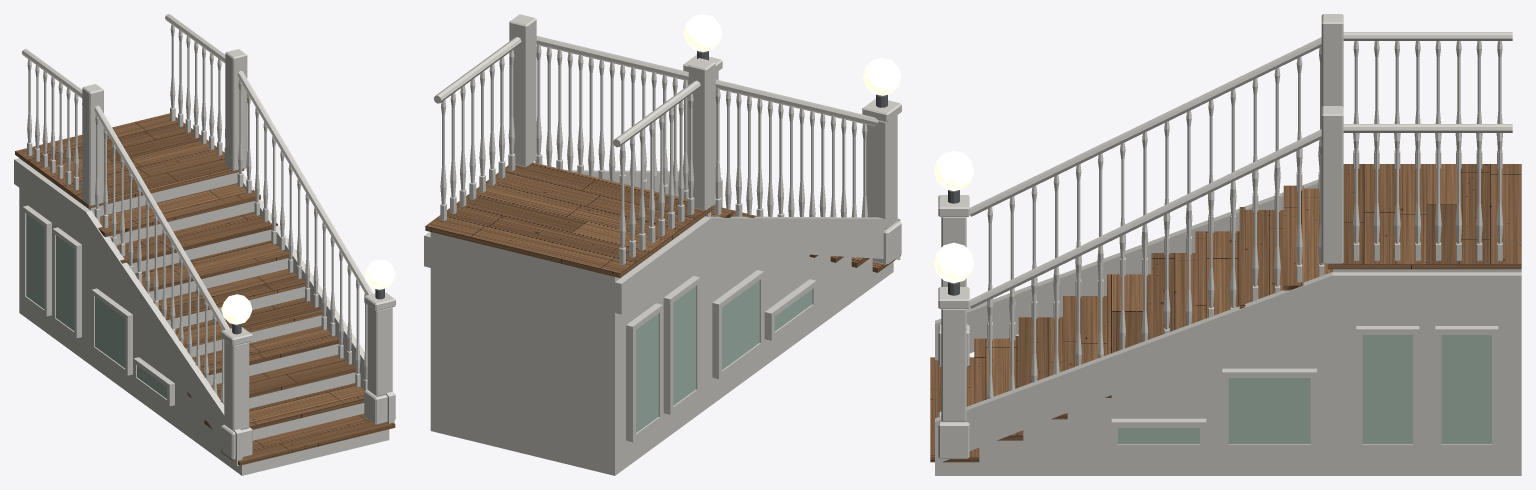
File: stoop_e.glb
3 renders of one model, left to right at view 1: azimuth 30°, elevation 25°; view 2: azimuth 150°, elevation 25°; view 3: azimuth 270°, elevation 25°, orthographic. The views are drawn at different scales.
Parts seen in each view (by area): view 1: stoop_e_trim, stoop_e_deck, stoop_e_acc_e, stoop_e_lamp_glass; view 2: stoop_e_trim, stoop_e_deck, stoop_e_acc_e, stoop_e_lamp_glass; view 3: stoop_e_trim, stoop_e_deck, stoop_e_acc_e, stoop_e_lamp_glass.
Part boxes in pixels (x1=…): stoop_e_trim: x1=14, y1=14, x2=395, y2=475; stoop_e_deck: x1=15, y1=113, x2=395, y2=465; stoop_e_acc_e: x1=26, y1=214, x2=166, y2=398; stoop_e_lamp_glass: x1=221, y1=259, x2=395, y2=324; stoop_e_trim: x1=424, y1=14, x2=901, y2=475; stoop_e_deck: x1=425, y1=162, x2=900, y2=277; stoop_e_acc_e: x1=636, y1=280, x2=812, y2=432; stoop_e_lamp_glass: x1=683, y1=14, x2=901, y2=95; stoop_e_trim: x1=935, y1=14, x2=1521, y2=475; stoop_e_deck: x1=930, y1=164, x2=1521, y2=462; stoop_e_acc_e: x1=1118, y1=335, x2=1491, y2=444; stoop_e_lamp_glass: x1=933, y1=150, x2=974, y2=283.
Bounding box in the file's own units: 1.64 × 2.55 × 3.75.
Materials: 5 (1 with a texture image).
